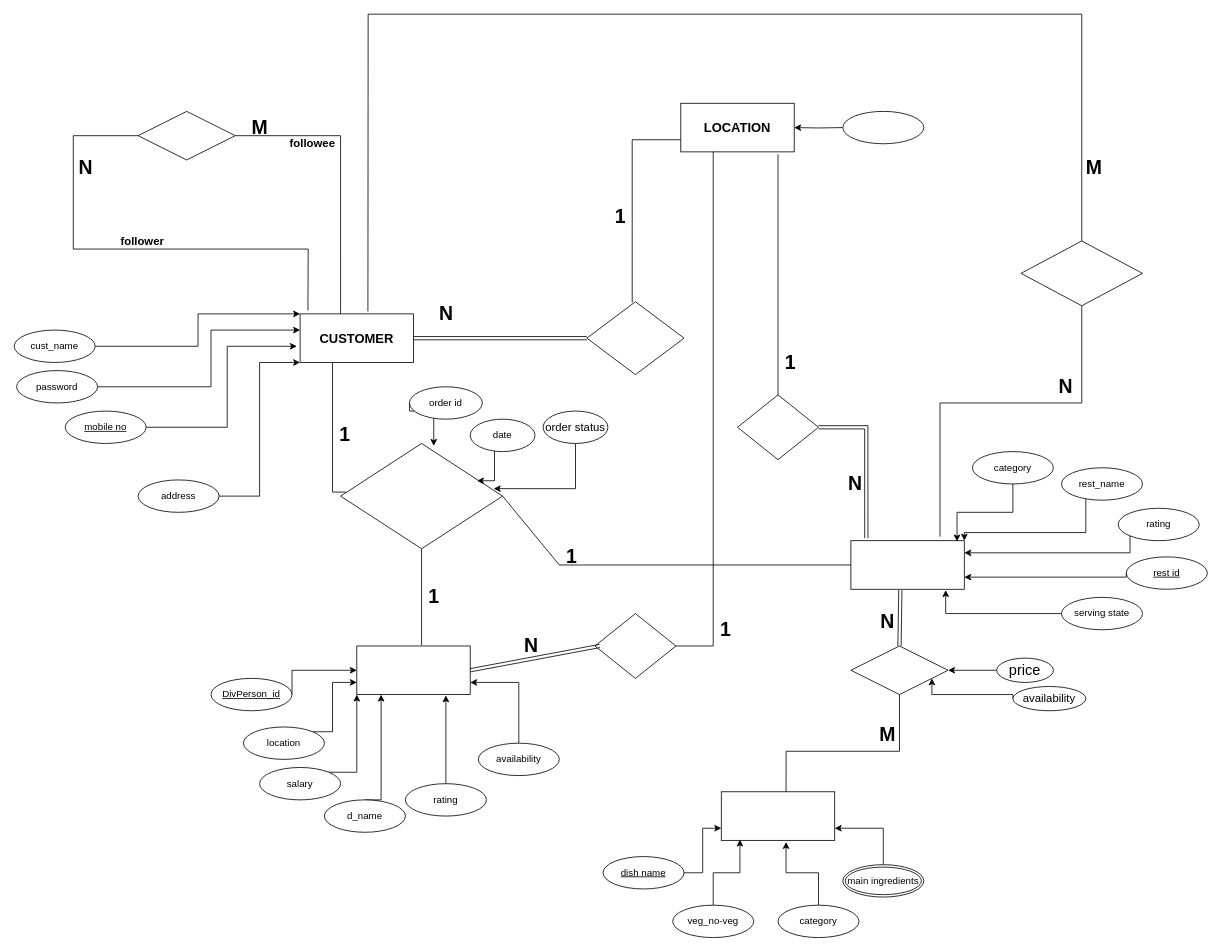
Image size: 1221x952. Some labels were removed from this diagram. The shapes that lost their labels are listed below. From the top down, each one's centre as x and y in pixels, then its label:
At pixel 186 135: "follow".
At pixel 883 127: "loc_name".
At pixel 1081 273: "recommends".
At pixel 635 338: "lives in".
At pixel 778 427: "at".
At pixel 421 496: "order".
At pixel 907 564: "RESTAURANT".
At pixel 635 645: "works at".
At pixel 413 670: "DELIVERY PERSON".
At pixel 899 670: "serves".
At pixel 777 815: "DISH".
